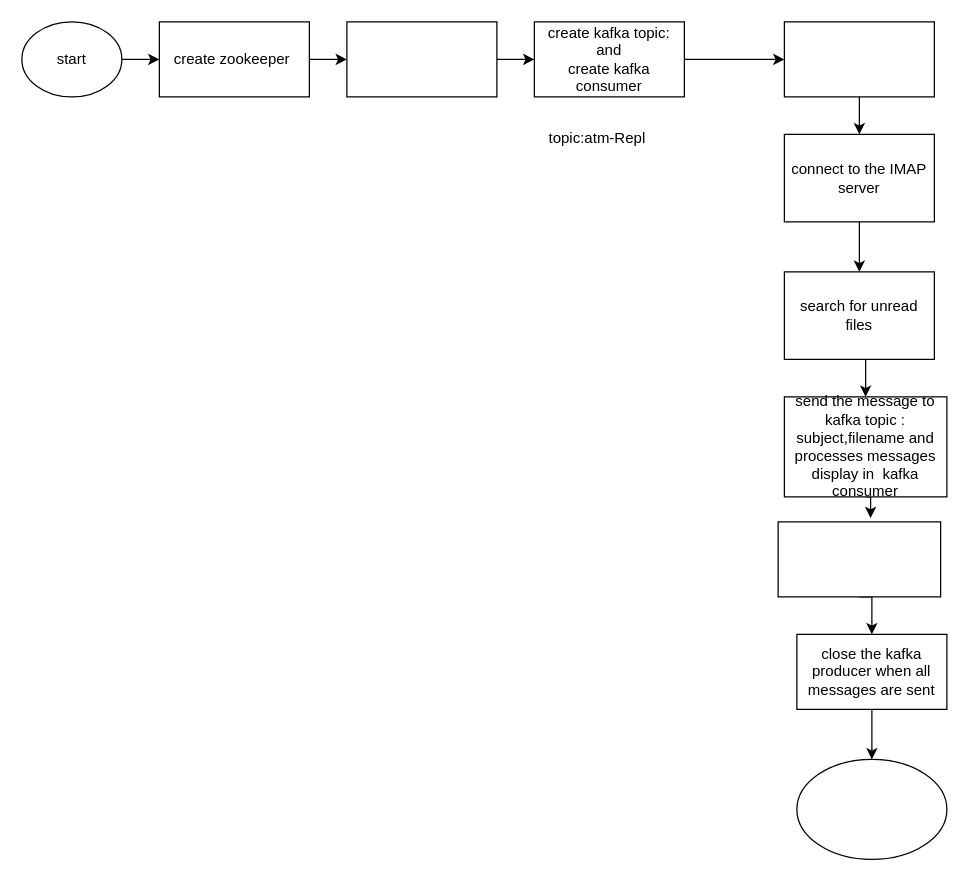
Image size: 969x881. Some labels were removed from this diagram. The shapes that lost their labels are listed below. From the top down, each one's centre as x and y in pixels, then its label:
point 421,59: create kafka
point 858,59: create the kafka producer
point 859,559: sleep if need before processing the next rmail :5 min
point 871,808: end
